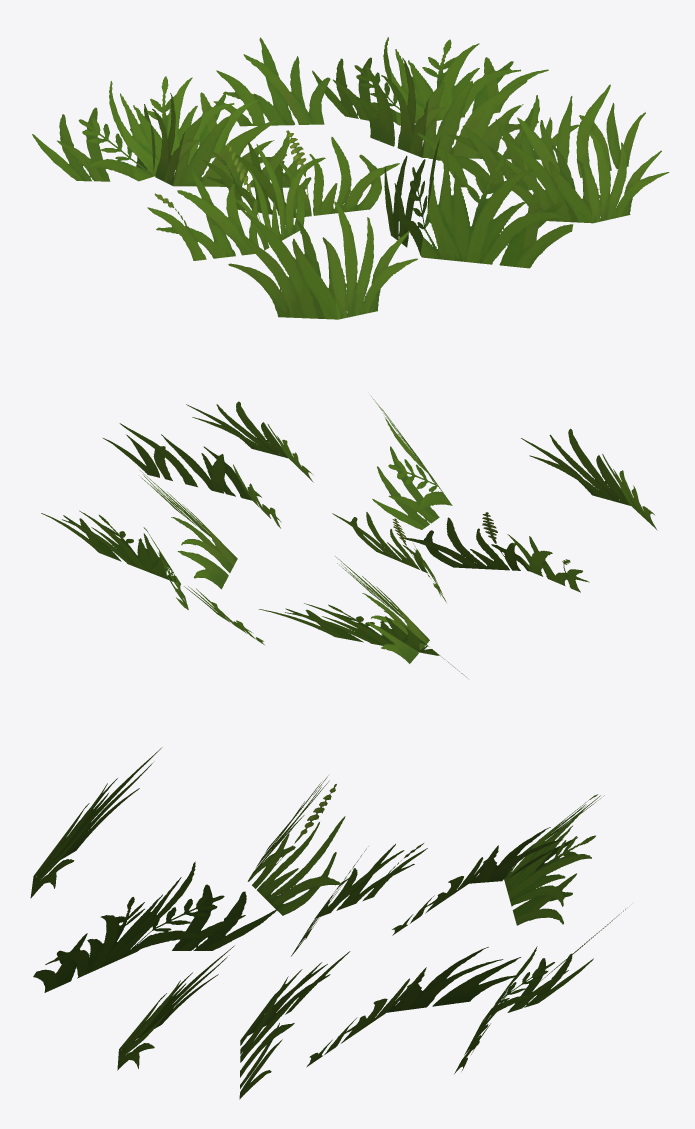
Rendered from grass_04.FBX.
The picture shows the model from 3 angles, top to bottom: view 1: azimuth 30°, elevation 25°; view 2: azimuth 150°, elevation 25°; view 3: azimuth 270°, elevation 25°; orthographic projection. The views are drawn at different scales.
Parts seen in each view (by area): view 1: Plane005; view 2: Plane005; view 3: Plane005.
Boxes of the visible parts, bbox=[...] form: Plane005: bbox=[32, 37, 669, 319]; Plane005: bbox=[41, 396, 657, 677]; Plane005: bbox=[30, 747, 625, 1099].
Size of the model in its own units: 2 by 0.3799 by 1.93.
Materials: 1 (1 with a texture image).
